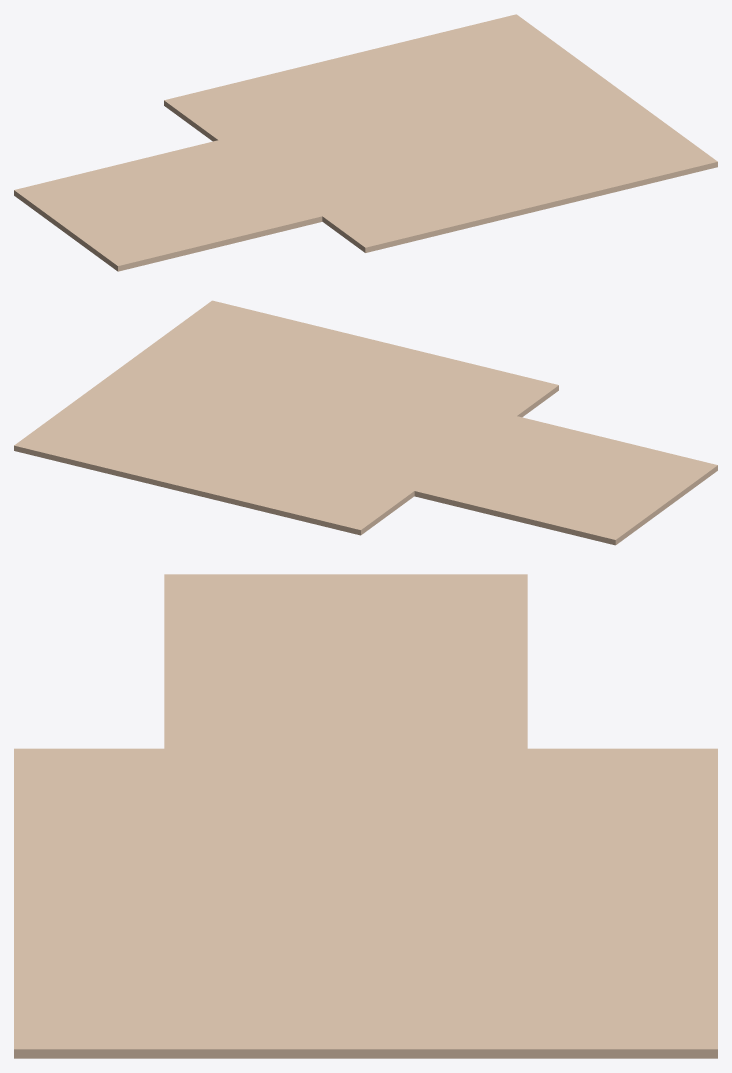
Rendered from atap ruangan .fbx.
The picture shows the model from 3 angles, top to bottom: view 1: azimuth 30°, elevation 25°; view 2: azimuth 150°, elevation 25°; view 3: azimuth 270°, elevation 25°; orthographic projection. The views are drawn at different scales.
Parts seen in each view (by area): view 1: Cube.028, Cube.029; view 2: Cube.028, Cube.029; view 3: Cube.028, Cube.029.
Boxes of the visible parts, left/top/right/bottom form: Cube.028: left=164, top=14, right=717, bottom=252; Cube.029: left=14, top=138, right=328, bottom=271; Cube.028: left=14, top=300, right=558, bottom=535; Cube.029: left=408, top=414, right=717, bottom=545; Cube.028: left=14, top=748, right=717, bottom=1058; Cube.029: left=164, top=574, right=527, bottom=753.
Bounding box in the file's own units: 13017 × 124 × 8155.
